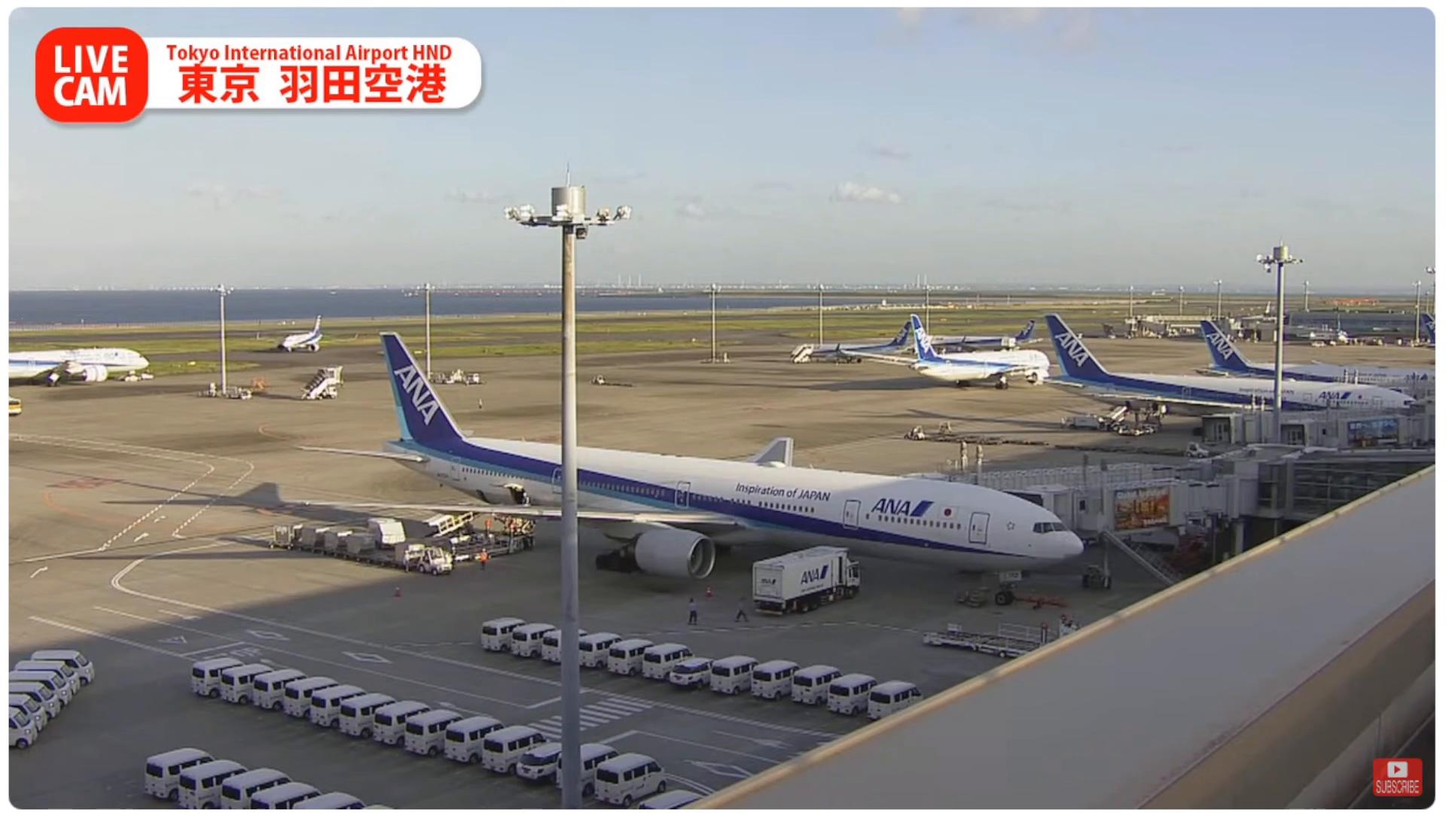Aerobridge: (1002, 452, 1258, 588), (892, 443, 1211, 486)
Airplane: (279, 333, 1086, 605)
Baggage truck: (366, 516, 406, 548)
Catering: (753, 544, 859, 617)
Dolly: (270, 542, 417, 569)
JCPL: (923, 619, 1082, 659), (444, 511, 537, 561)
Skyloader: (420, 510, 485, 543)
Tractor: (419, 546, 452, 576)
ULD: (301, 523, 330, 549), (324, 528, 353, 552), (273, 521, 303, 544), (395, 541, 423, 564), (348, 533, 374, 554)
Window: (1291, 461, 1433, 515)
